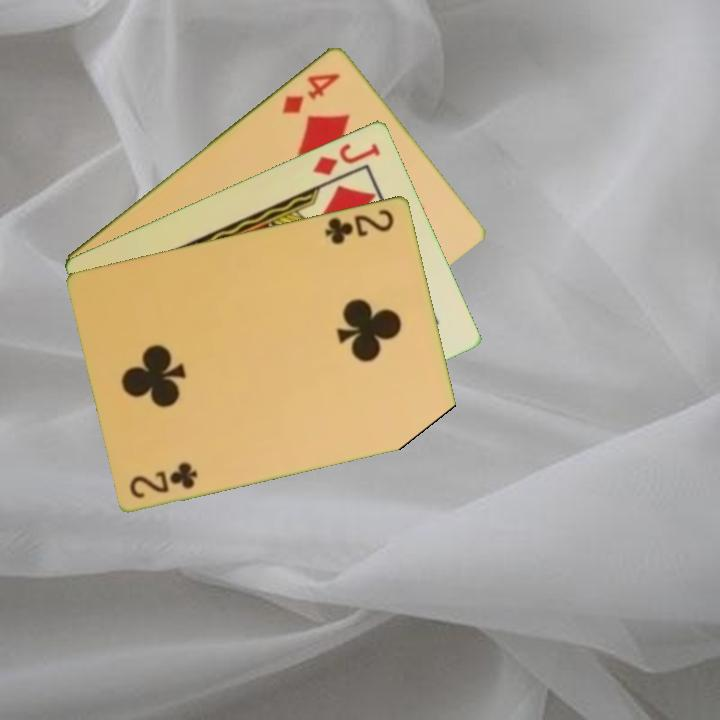2c: (321, 205, 398, 247), (126, 459, 201, 501)
4d: (278, 68, 343, 117)
Jd: (309, 139, 384, 179)
